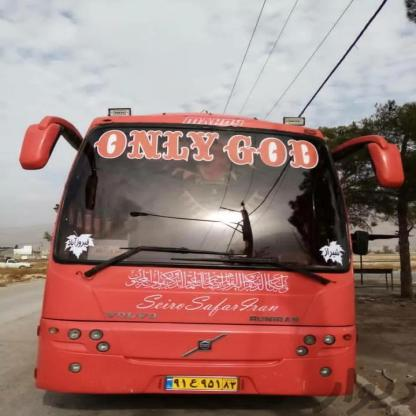Bus: (42, 114, 368, 400)
